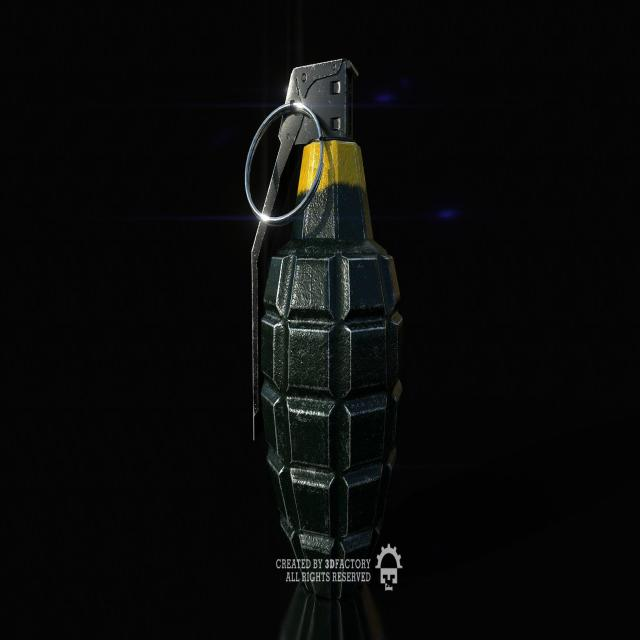grenade: (246, 61, 404, 598)
